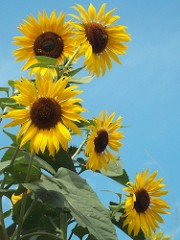flower: (0, 68, 88, 159), (9, 8, 80, 82), (65, 1, 131, 78), (119, 165, 173, 240), (84, 108, 125, 178)
